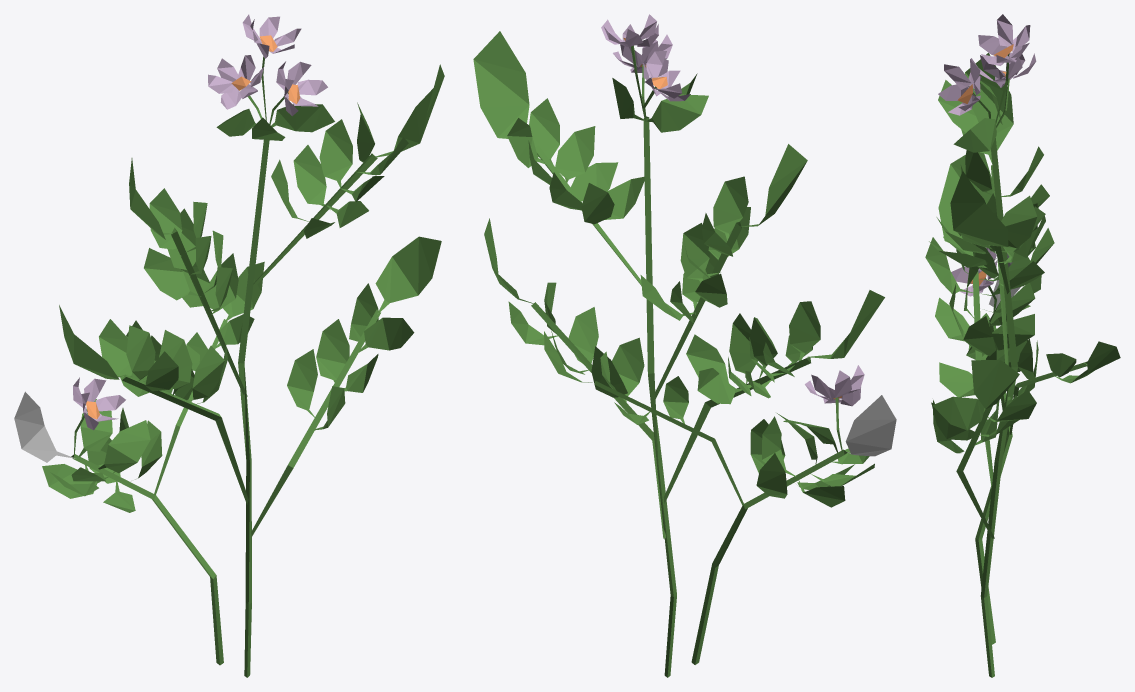
File: Potato_3.fbx
3 views of the same model, side by side, from view 1: azimuth 30°, elevation 25°; view 2: azimuth 150°, elevation 25°; view 3: azimuth 270°, elevation 25° (orthographic). The views are drawn at different scales.
Visible parts, largest first — view 1: Potato_3; view 2: Potato_3; view 3: Potato_3.
Part boxes in pixels (x1=…): Potato_3: x1=14, y1=14, x2=444, y2=677; Potato_3: x1=473, y1=14, x2=896, y2=677; Potato_3: x1=925, y1=14, x2=1120, y2=677.
Size of the model in its own units: 85.7 by 126 by 33.34.
